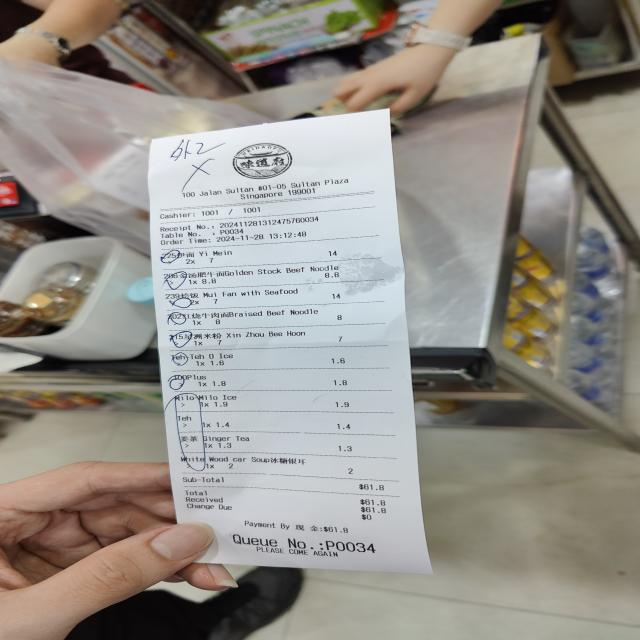bill_region: (149, 244, 413, 524)
